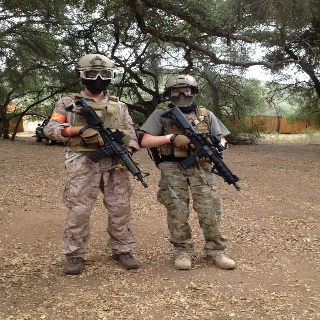rifle: (161, 106, 243, 194), (77, 97, 147, 188)
